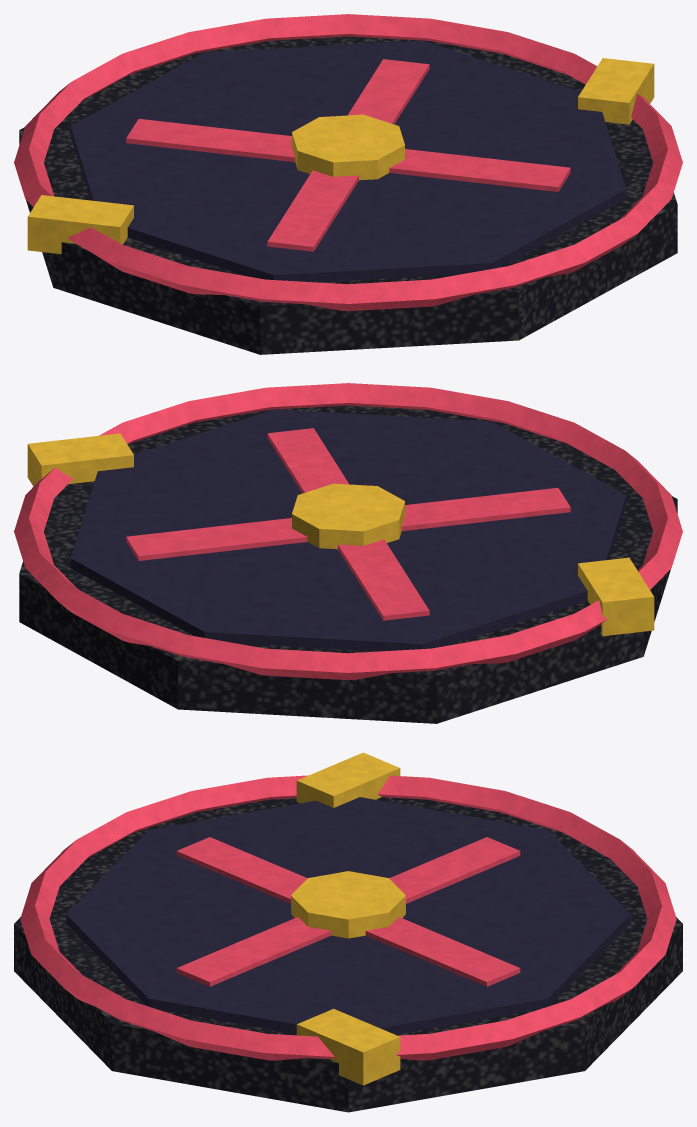
The model's file is raid_spawn_pad.fbx.
3 views of the same model, one above another, from view 1: azimuth 30°, elevation 25°; view 2: azimuth 150°, elevation 25°; view 3: azimuth 270°, elevation 25° (orthographic).
Visible parts, largest first — view 1: Raid_spawn_pad; view 2: Raid_spawn_pad; view 3: Raid_spawn_pad.
Part boxes in pixels (<box>): Raid_spawn_pad: <box>14,14,682,354</box>; Raid_spawn_pad: <box>14,383,682,723</box>; Raid_spawn_pad: <box>14,752,682,1112</box>.
Bounding box in the file's own units: 6.79 × 0.8 × 6.4.
1 material, 1 textured.
